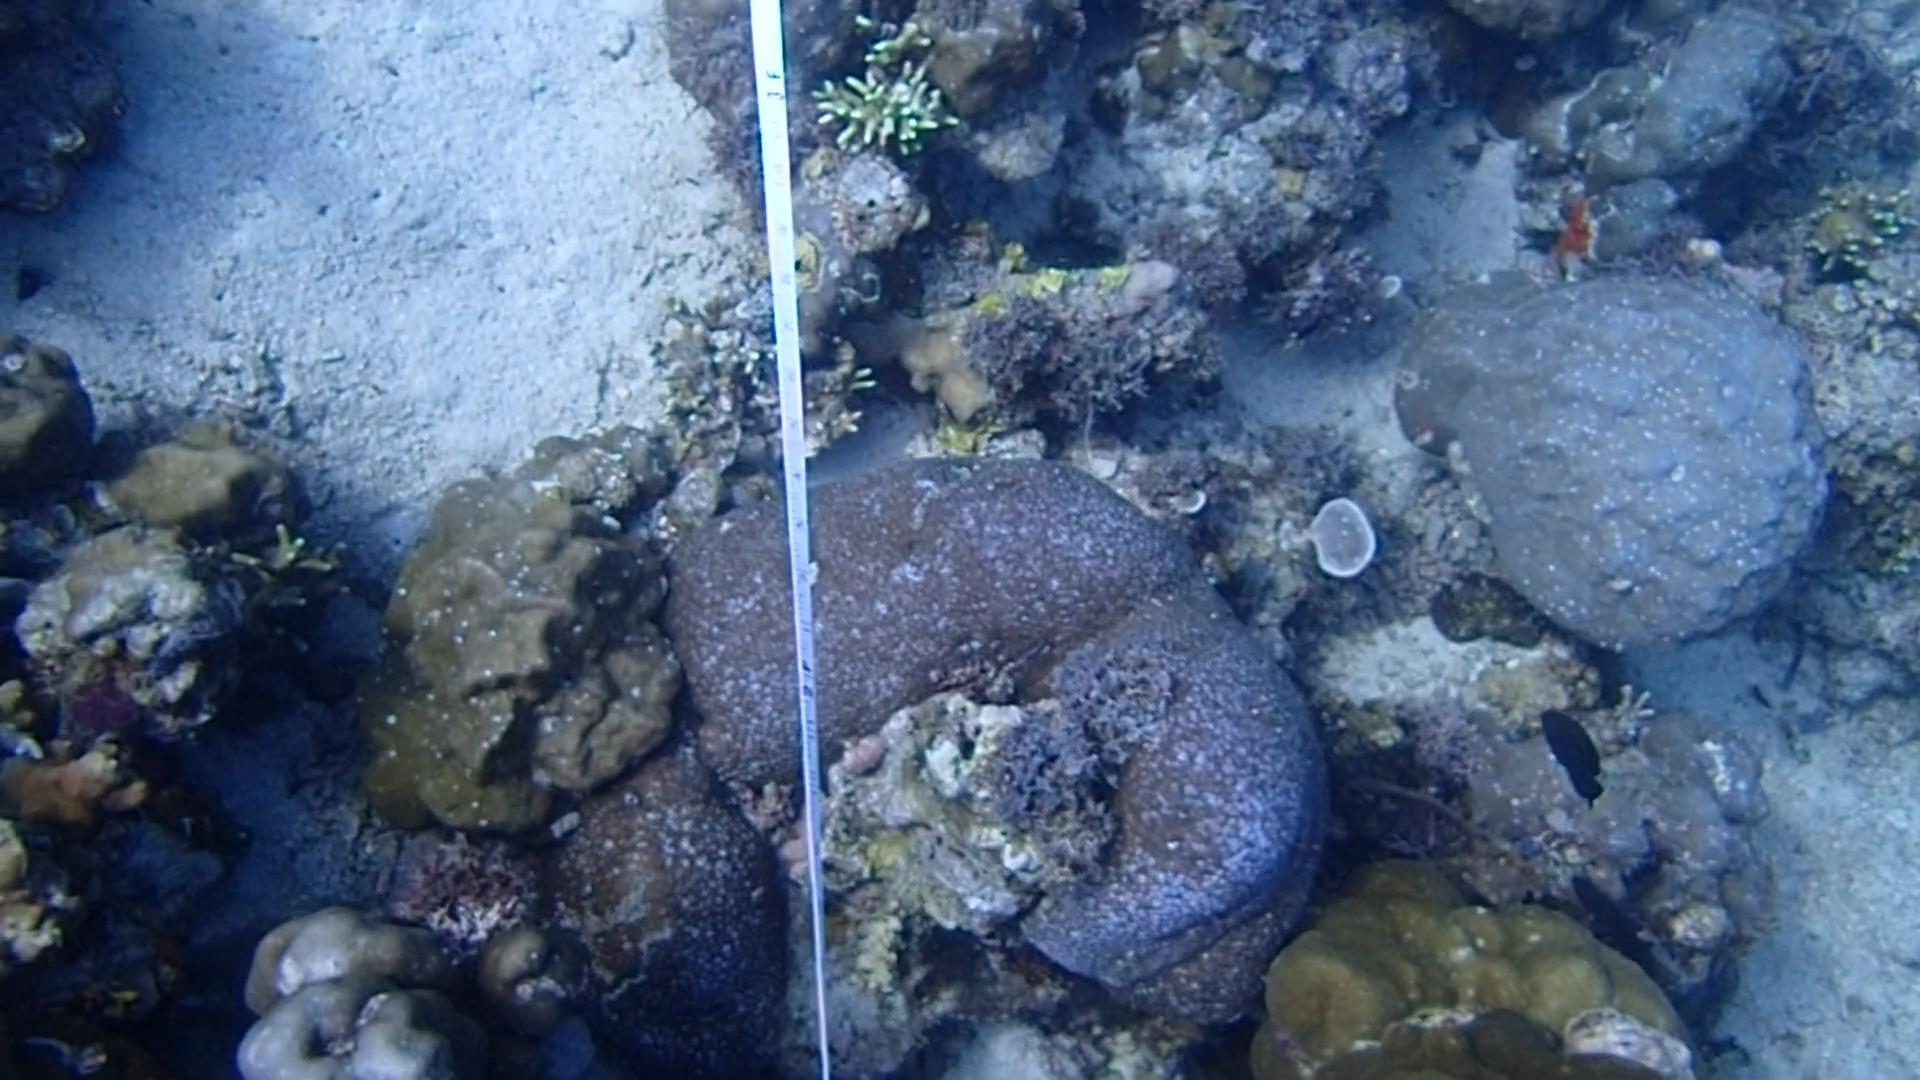Dark Fish: (1535, 698, 1614, 812)
